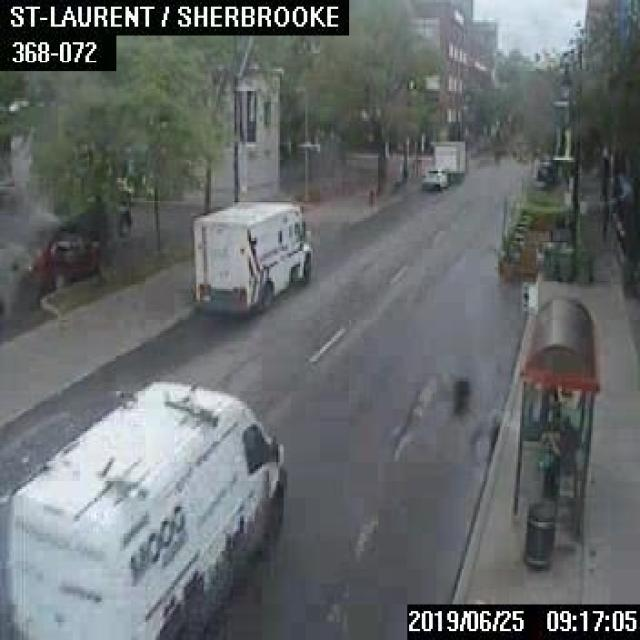pedestrian: (535, 414, 577, 492)
vehicle: (2, 373, 282, 638), (191, 196, 313, 311), (44, 206, 130, 266), (430, 140, 464, 178), (418, 164, 448, 187)
